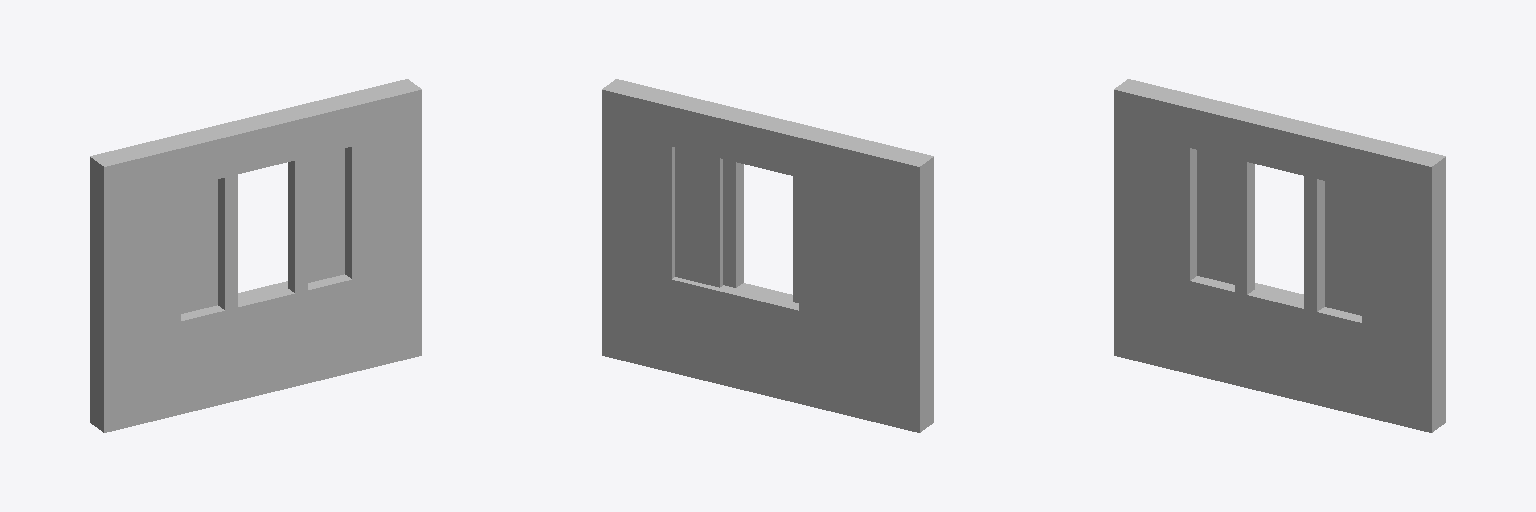
Rendered from wall_window.obj.
The picture shows the model from 3 angles: view 1: azimuth 30°, elevation 25°; view 2: azimuth 150°, elevation 25°; view 3: azimuth 330°, elevation 25°; orthographic projection.
Size of the model in its own units: 50 by 40 by 4.